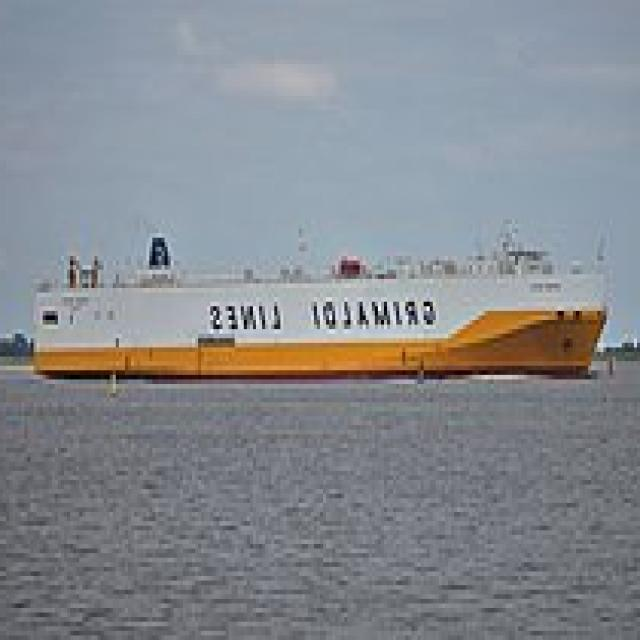Carrier: (33, 220, 612, 380)
